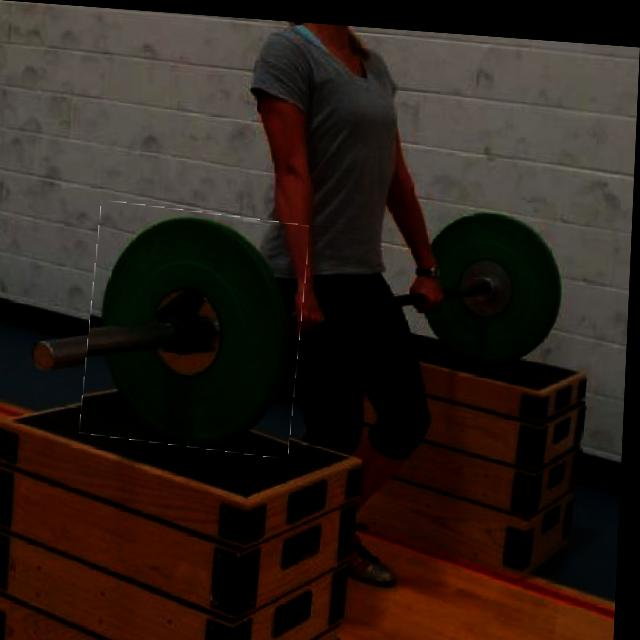barbell: (87, 202, 310, 453)
